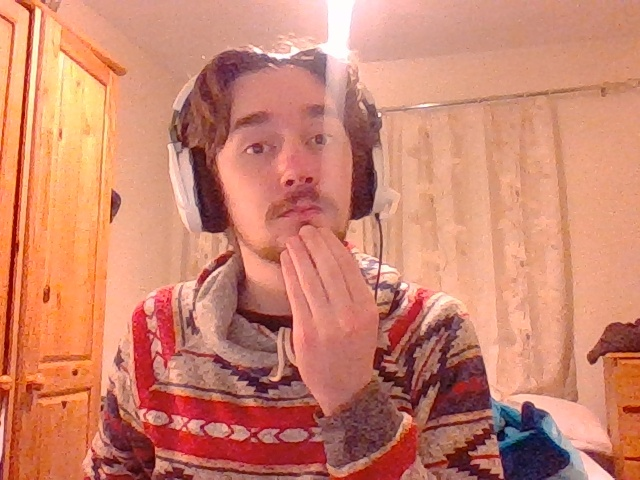thanks: (282, 225, 380, 401)
